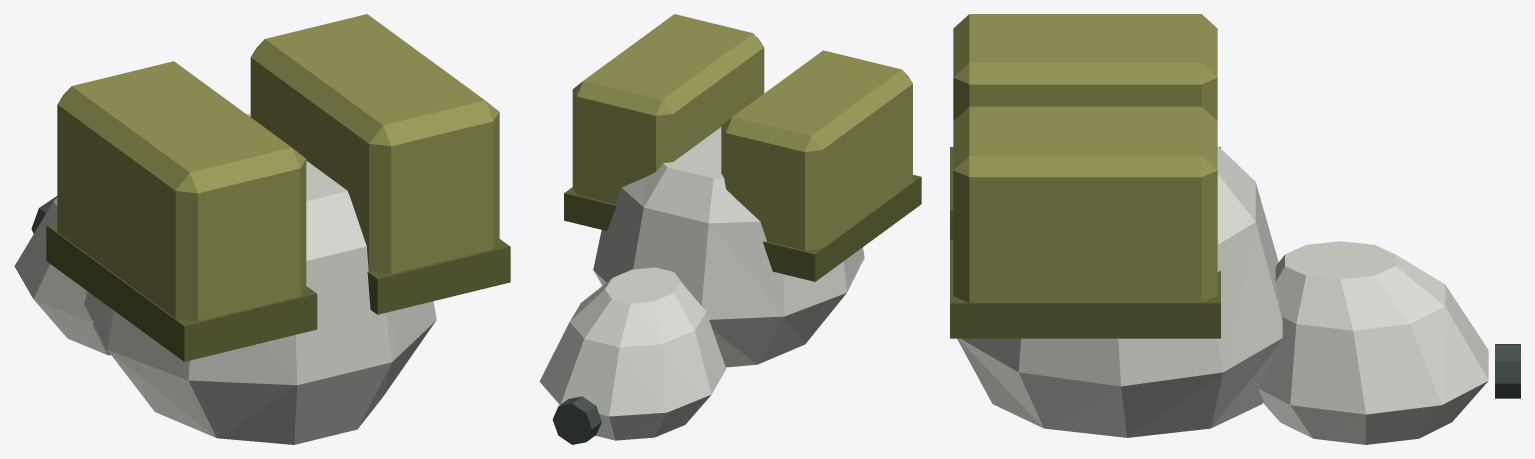
File: agrihand.obj
The picture shows the model from 3 angles, left to right: view 1: azimuth 30°, elevation 25°; view 2: azimuth 150°, elevation 25°; view 3: azimuth 270°, elevation 25°; orthographic projection. The views are drawn at different scales.
Visible parts, largest first — view 1: agrihand; view 2: agrihand; view 3: agrihand.
Boxes of the visible parts, x1=… form: agrihand: x1=14, y1=14, x2=510, y2=444; agrihand: x1=539, y1=14, x2=921, y2=444; agrihand: x1=950, y1=14, x2=1520, y2=444.
Size of the model in its own units: 0.574 by 0.56 by 0.885.
